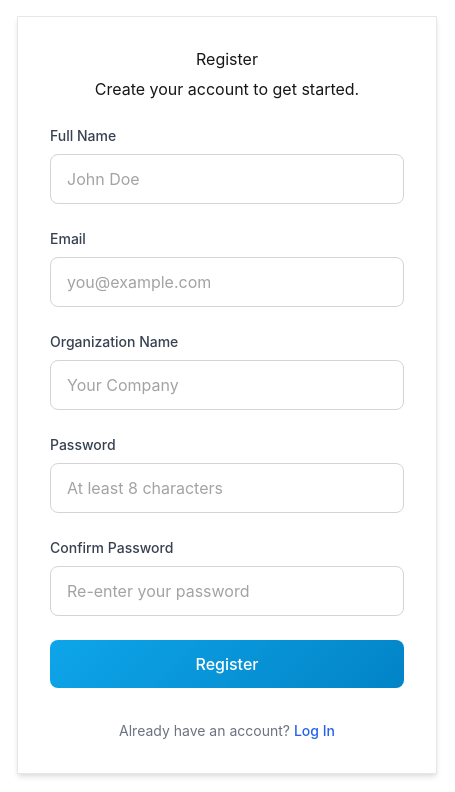
Test: AuthFlow - RegisterPage › should validate password confirmation
The image size is (455, 792).
Type "test@example.com" into the field labelled "Email" at (227, 282), box [50,257,404,307]
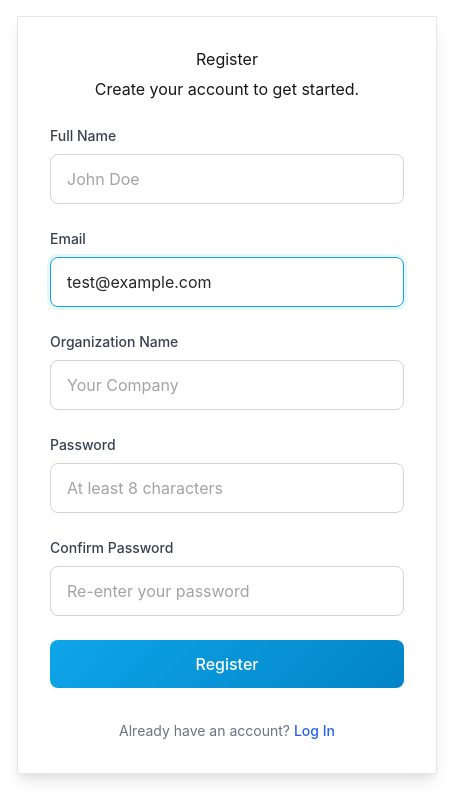
Type "Test User" into the field labelled "Full Name" at (227, 179), box [50,154,404,204]
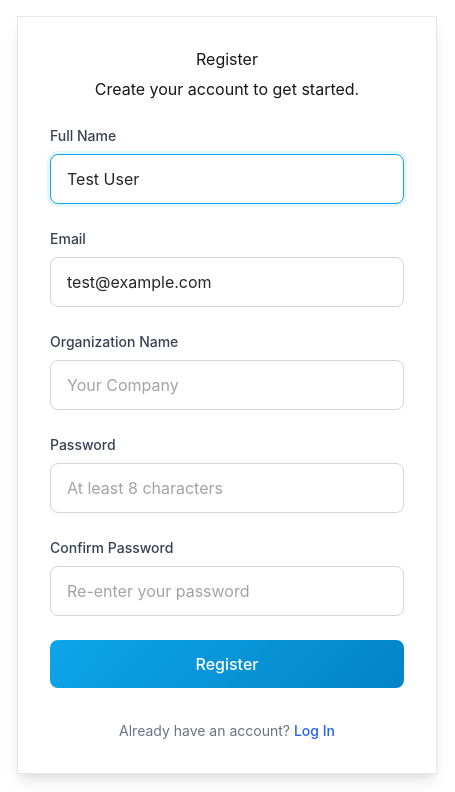
Type "Test Org" into the field labelled "Organization Name" at (227, 385), box [50,360,404,410]
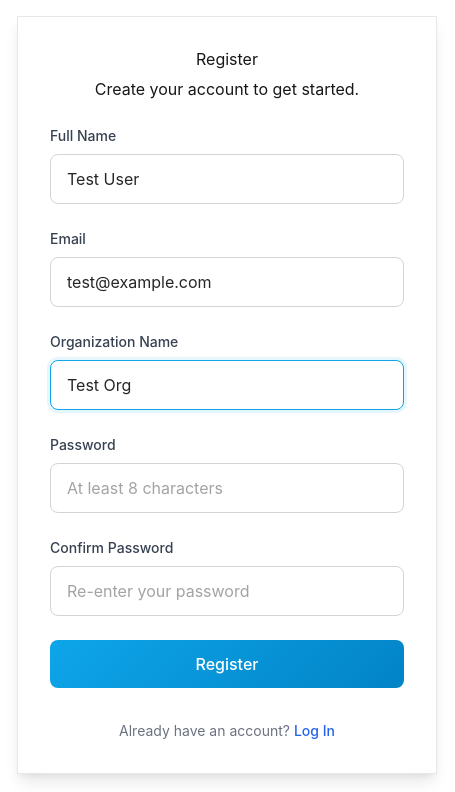
Type "password123" into the password field labelled "Password" at (227, 488), box [50,463,404,513]
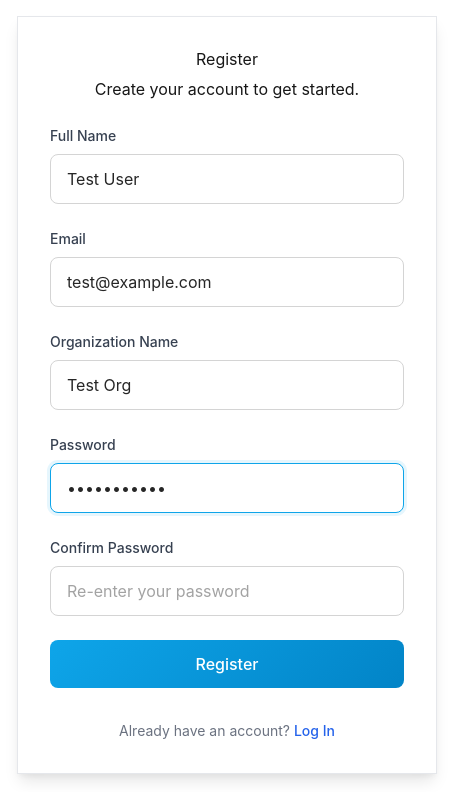
Type "different123" into the password field labelled "Confirm Password" at (227, 591), box [50,566,404,616]
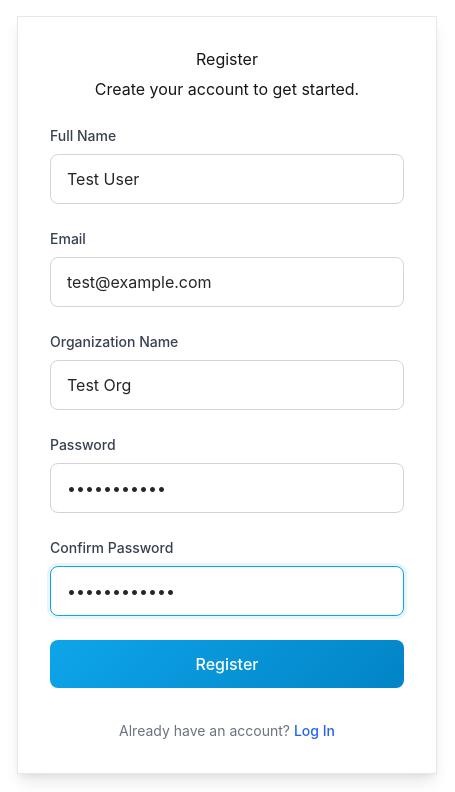
Click the button "Register" at (227, 664), box [50,640,404,688]
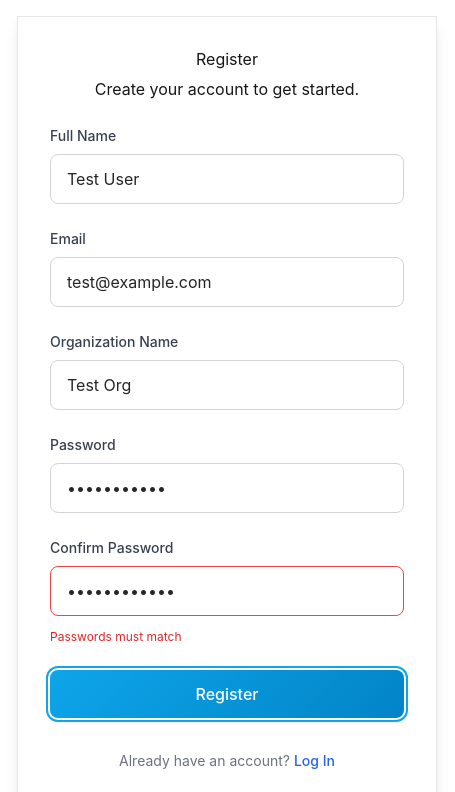
Now the text "Passwords must match" is shown, box [50,629,182,644]
